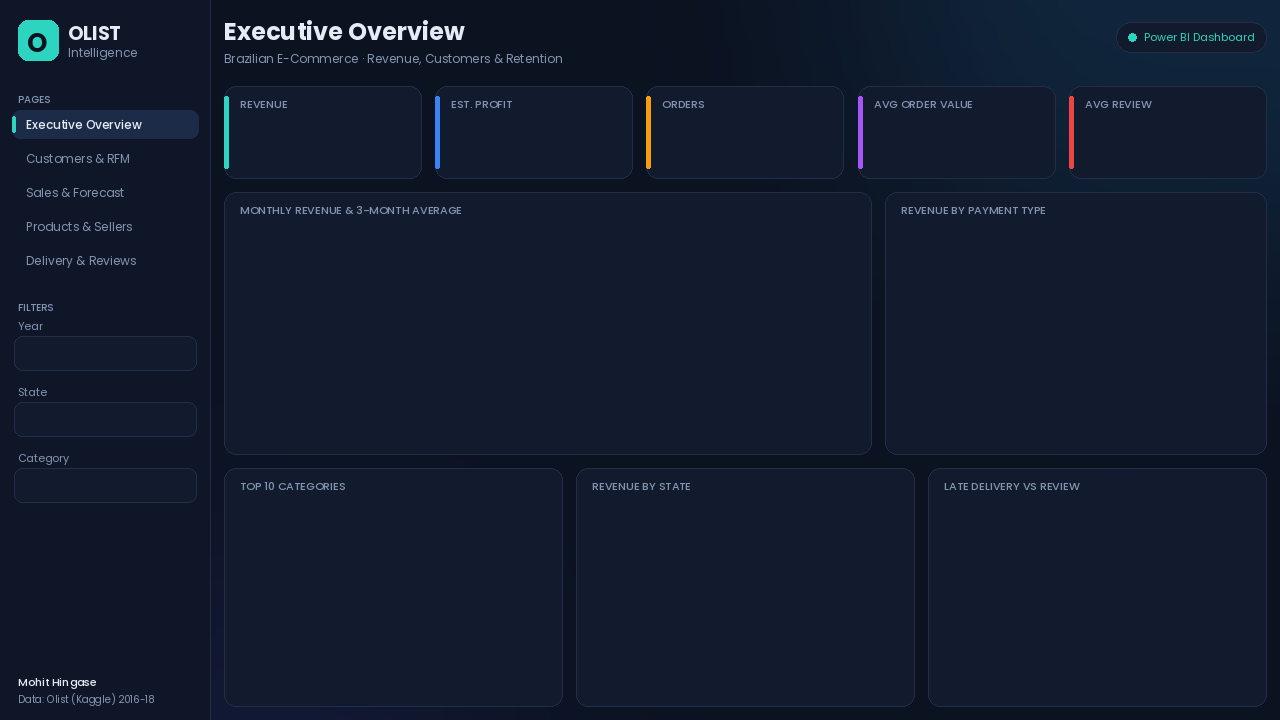

What the dashboard file says about the page in this screenshot:
{"tool":"powerbi","page":{"name":"Executive Overview","canvas":[1280,720],"ordinal":0},"visuals":[{"type":"card","fields":{"Values":["fact_orders.Revenue"]},"box":[234,112,179,62],"z":1000},{"type":"card","fields":{"Values":["fact_orders.Est Gross Profit"]},"box":[445,112,179,62],"z":1000},{"type":"card","fields":{"Values":["fact_orders.Orders"]},"box":[656,112,179,62],"z":1000},{"type":"card","fields":{"Values":["fact_orders.AOV"]},"box":[868,112,179,62],"z":1000},{"type":"card","fields":{"Values":["fact_orders.Avg Review"]},"box":[1079,112,179,62],"z":1000},{"type":"lineClusteredColumnComboChart","fields":{"Category":["dim_date.year_month"],"Y":["fact_orders.Revenue"],"Y2":["fact_orders.Revenue 3M Avg"]},"box":[230,222,635,226],"z":1000},{"type":"donutChart","fields":{"Category":["fact_orders.payment_type"],"Y":["fact_orders.Revenue"]},"box":[891,222,369,226],"z":1000},{"type":"barChart","fields":{"Category":["dim_product.category"],"Y":["fact_order_items.Top10 Category Revenue"]},"box":[230,498,326,202],"z":1000},{"type":"barChart","fields":{"Category":["fact_orders.customer_state"],"Y":["fact_orders.Top10 State Revenue"]},"box":[582,498,326,202],"z":1000},{"type":"columnChart","fields":{"Category":["fact_orders.Delivery Bucket"],"Y":["fact_orders.Bucket Avg Review"]},"box":[934,498,326,202],"z":1000},{"type":"slicer","fields":{"Values":["dim_date.year"]},"box":[14,351,182,40],"z":3000},{"type":"slicer","fields":{"Values":["dim_customer.state"]},"box":[14,417,182,40],"z":3000},{"type":"slicer","fields":{"Values":["dim_product.category"]},"box":[14,483,182,40],"z":3000},{"type":"actionButton","box":[12,144,186,28],"z":4001},{"type":"actionButton","box":[12,178,186,28],"z":4002},{"type":"actionButton","box":[12,212,186,28],"z":4003},{"type":"actionButton","box":[12,246,186,28],"z":4004}]}

Visuals, with their boxes on the page's 1280x720 design canvas (x1, y1, x2, y2). These are canvas units, not pixel positions in the 1280x720 screenshot, which may show the page scaled, cropped or inside an application window:
card - fact_orders.Revenue: Rect(234, 112, 413, 174)
card - fact_orders.Est Gross Profit: Rect(445, 112, 624, 174)
card - fact_orders.Orders: Rect(656, 112, 835, 174)
card - fact_orders.AOV: Rect(868, 112, 1047, 174)
card - fact_orders.Avg Review: Rect(1079, 112, 1258, 174)
lineClusteredColumnComboChart - dim_date.year_month x fact_orders.Revenue: Rect(230, 222, 865, 448)
donutChart - fact_orders.payment_type x fact_orders.Revenue: Rect(891, 222, 1260, 448)
barChart - dim_product.category x fact_order_items.Top10 Category Revenue: Rect(230, 498, 556, 700)
barChart - fact_orders.customer_state x fact_orders.Top10 State Revenue: Rect(582, 498, 908, 700)
columnChart - fact_orders.Delivery Bucket x fact_orders.Bucket Avg Review: Rect(934, 498, 1260, 700)
slicer - dim_date.year: Rect(14, 351, 196, 391)
slicer - dim_customer.state: Rect(14, 417, 196, 457)
slicer - dim_product.category: Rect(14, 483, 196, 523)
actionButton: Rect(12, 144, 198, 172)
actionButton: Rect(12, 178, 198, 206)
actionButton: Rect(12, 212, 198, 240)
actionButton: Rect(12, 246, 198, 274)
